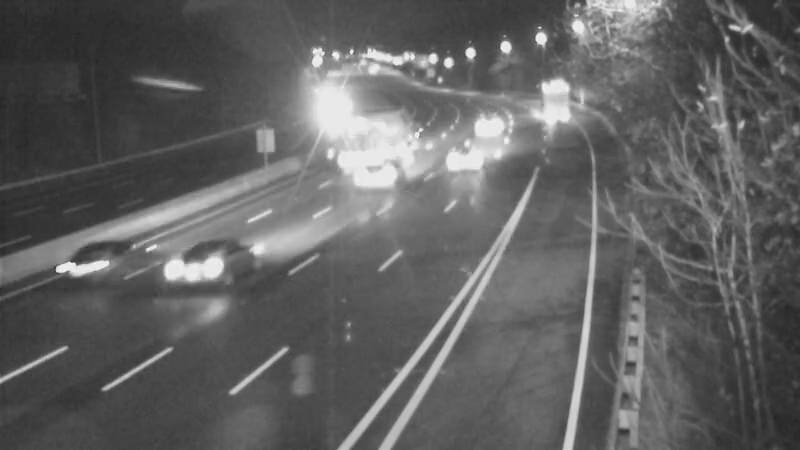vehicle: (426, 116, 506, 196), (331, 136, 411, 216), (156, 221, 236, 301), (54, 215, 134, 295), (520, 74, 570, 124), (465, 98, 515, 148), (345, 106, 395, 156), (314, 81, 364, 131)
